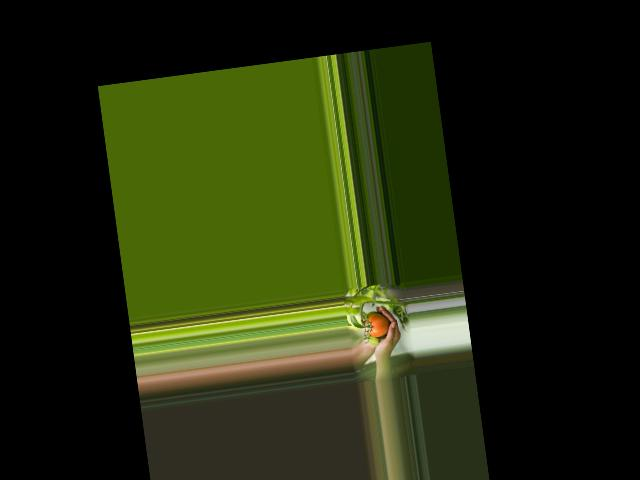tomato: (364, 313, 390, 338)
